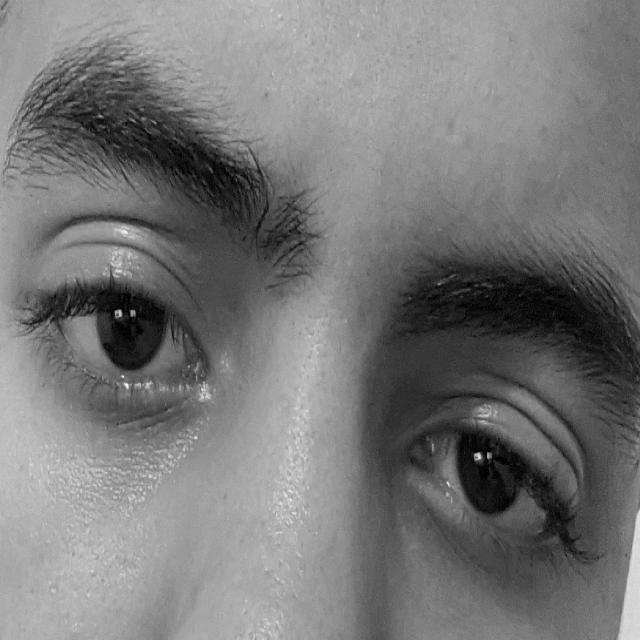real: (24, 121, 624, 613)
